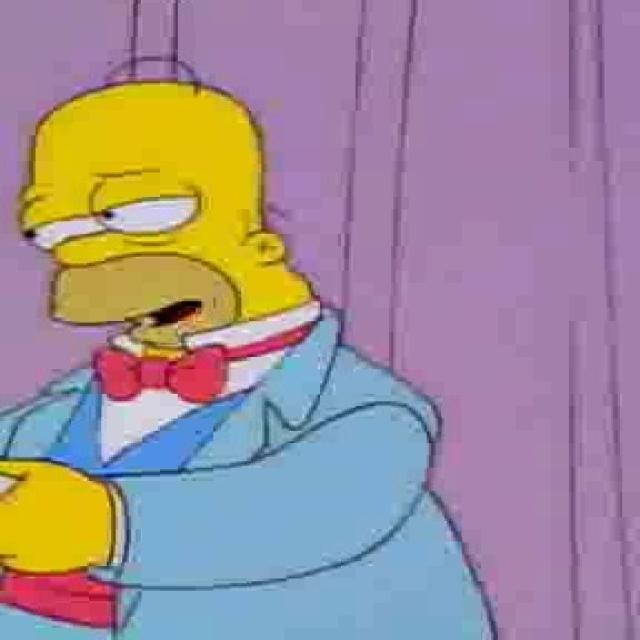Homer Simpson: (17, 56, 326, 356)
